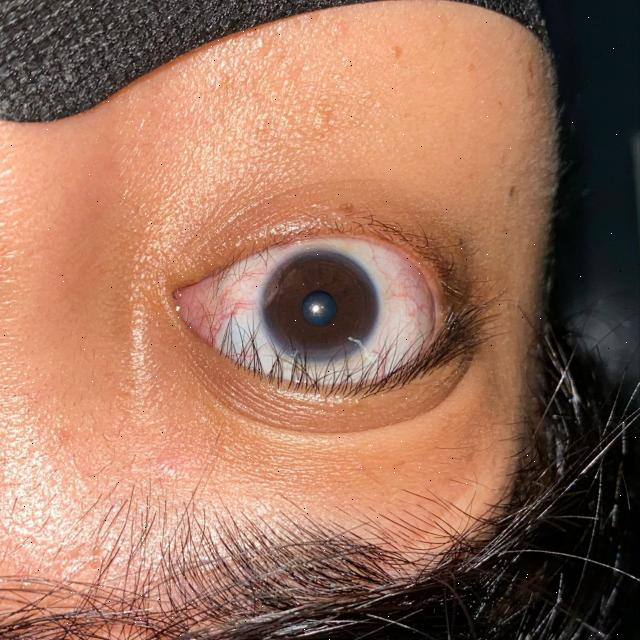Normal: (260, 252, 379, 366)
